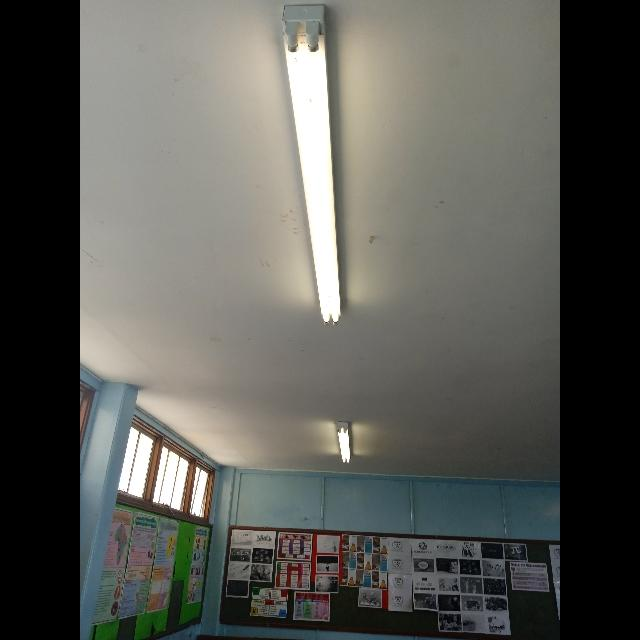Straight-Tube-Fluorescent-Lamp: (272, 1, 352, 333), (324, 408, 356, 472)
